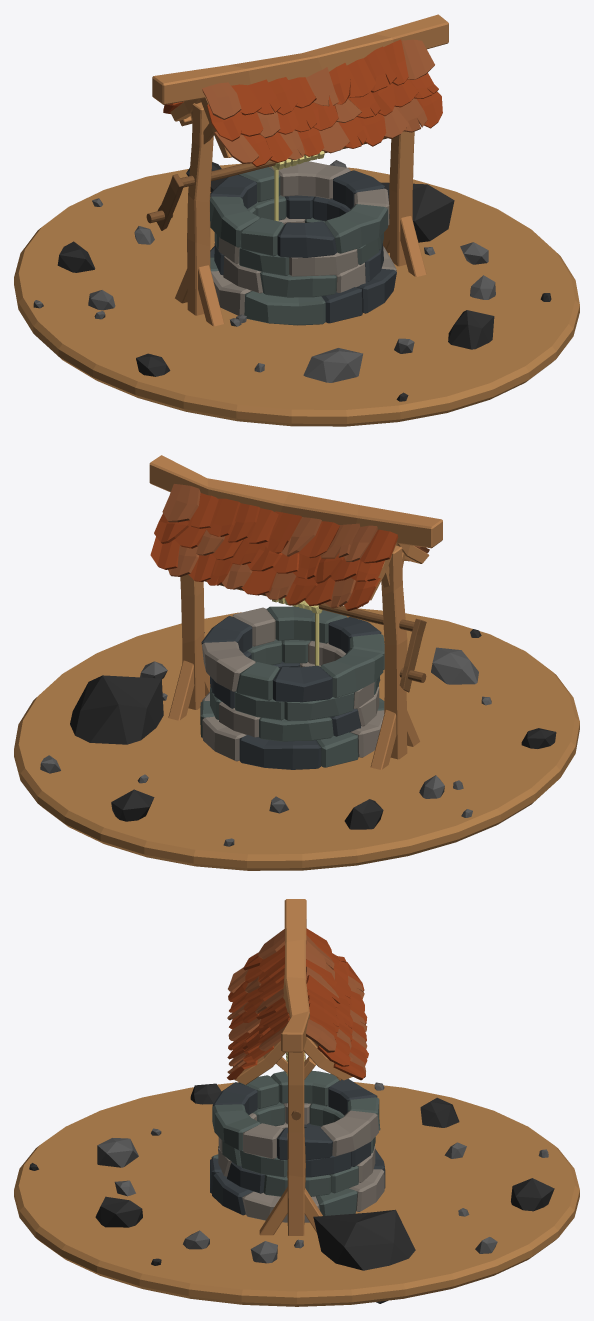
Rendered from pozo.fbx.
The picture shows the model from 3 angles, top to bottom: view 1: azimuth 30°, elevation 25°; view 2: azimuth 150°, elevation 25°; view 3: azimuth 270°, elevation 25°; orthographic projection. The views are drawn at different scales.
Parts seen in each view (by area): view 1: Cylinder.003, Roof1, Cube.003, Cube.010, Cube, Cube.002, Cube.005, Cube.001, Cube.004, Icosphere.005, Icosphere.013, Icosphere.002 (+7 smaller); view 2: Cylinder.003, Roof1.001, Cube.003, Cube.010, Cube, Icosphere.005, Cube.002, Cube.001, Cube.005, Cube.004, Icosphere.013, Icosphere.017 (+6 smaller); view 3: Cylinder.003, Cube.003, Roof1.001, Roof1, Icosphere.005, Cube, Cube.002, Cube.010, Cube.004, Cube.001, Icosphere.002, Icosphere.017 (+6 smaller).
Part boxes in pixels (x1,y1,x2,y2): Cylinder.003: (14, 163, 579, 426); Roof1: (202, 39, 442, 167); Cube.003: (210, 161, 389, 257); Cube.010: (152, 14, 448, 104); Cube: (210, 246, 396, 325); Cube.002: (214, 195, 383, 276); Cube.005: (187, 102, 213, 315); Cube.001: (214, 217, 383, 297); Cube.004: (389, 131, 414, 266); Icosphere.005: (380, 182, 454, 242); Icosphere.013: (303, 348, 362, 382); Icosphere.002: (448, 310, 494, 349); Cylinder.003: (14, 608, 579, 870); Roof1.001: (150, 484, 398, 610); Cube.003: (201, 606, 384, 702); Cube.010: (149, 455, 442, 548); Cube: (200, 692, 384, 769); Icosphere.005: (70, 675, 163, 744); Cube.002: (210, 639, 380, 720); Cube.001: (210, 661, 379, 741); Cube.005: (381, 545, 407, 759); Cube.004: (180, 574, 204, 709); Icosphere.013: (431, 647, 478, 684); Icosphere.017: (111, 789, 154, 821); Cylinder.003: (14, 1082, 579, 1306); Cube.003: (212, 1070, 380, 1160); Roof1.001: (306, 928, 368, 1080); Roof1: (227, 929, 289, 1080); Icosphere.005: (313, 1209, 415, 1303); Cube: (210, 1149, 385, 1222); Cube.002: (218, 1102, 375, 1177); Cube.010: (281, 899, 309, 1052); Cube.004: (287, 1050, 305, 1235); Cube.001: (218, 1122, 375, 1196); Icosphere.002: (95, 1196, 142, 1227); Icosphere.017: (511, 1178, 554, 1211).
Size of the model in its own units: 3046 by 1822 by 3380.
